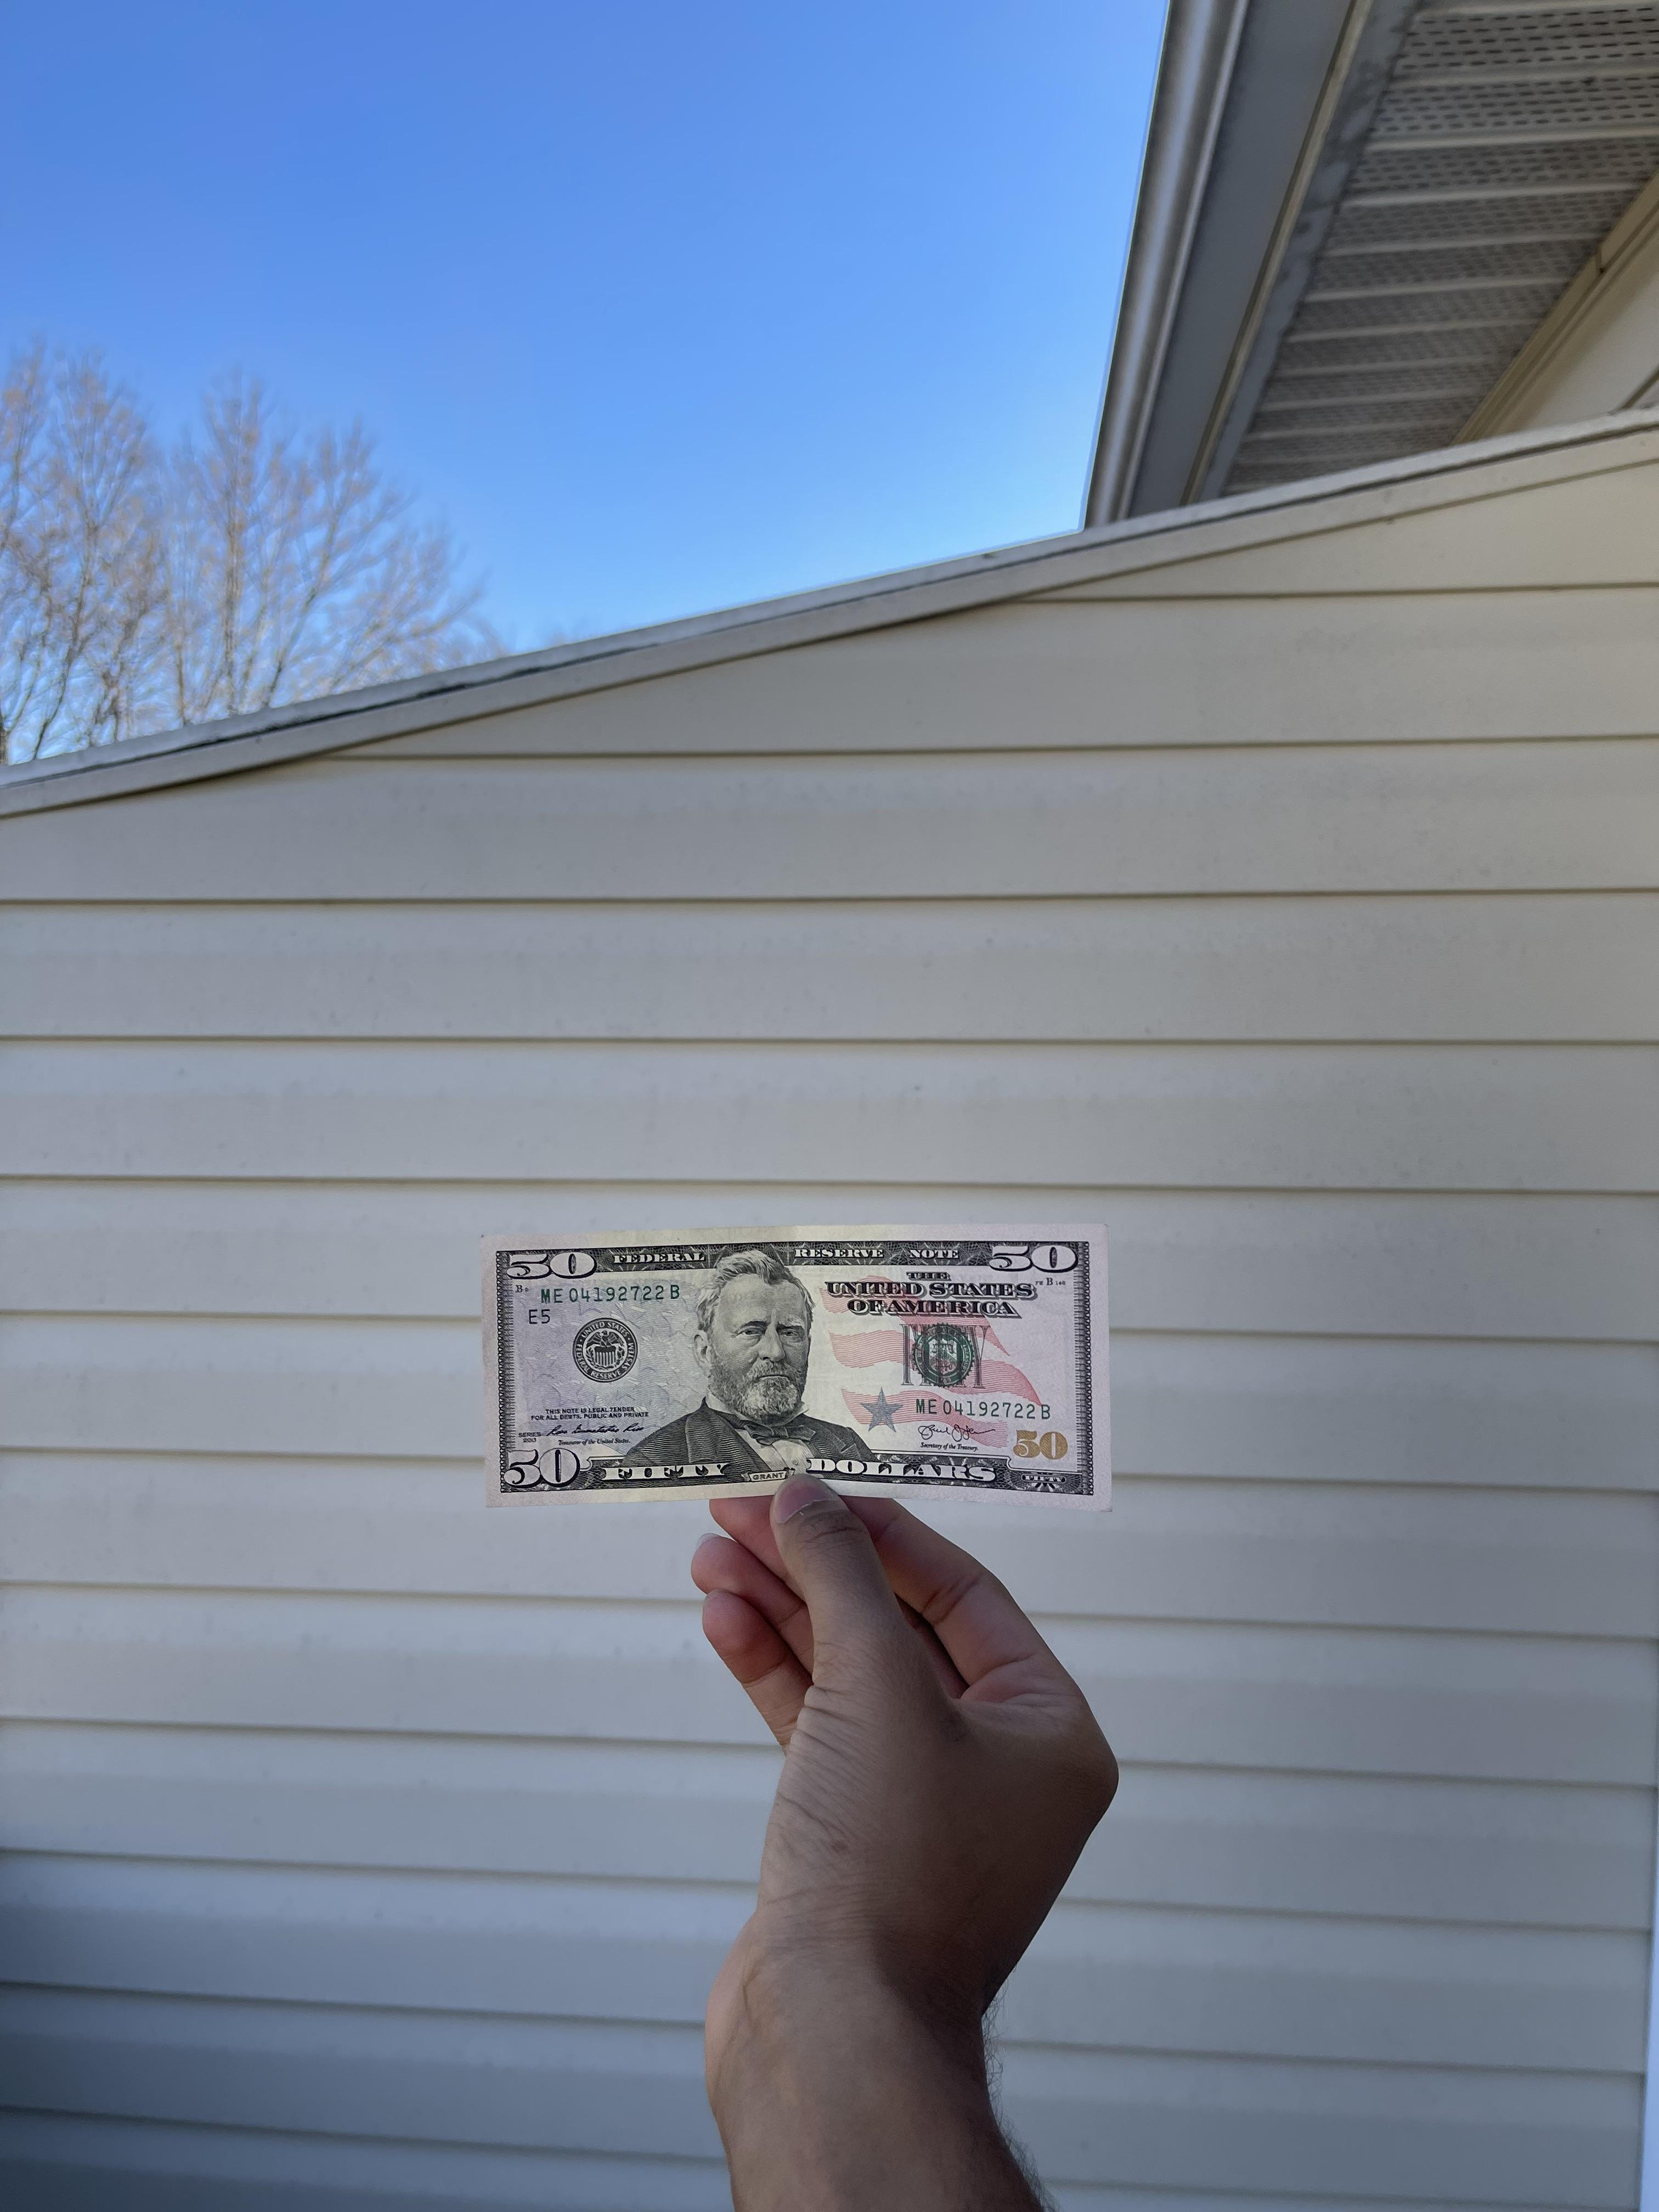FiftyBill: (479, 1221, 1112, 1512)
